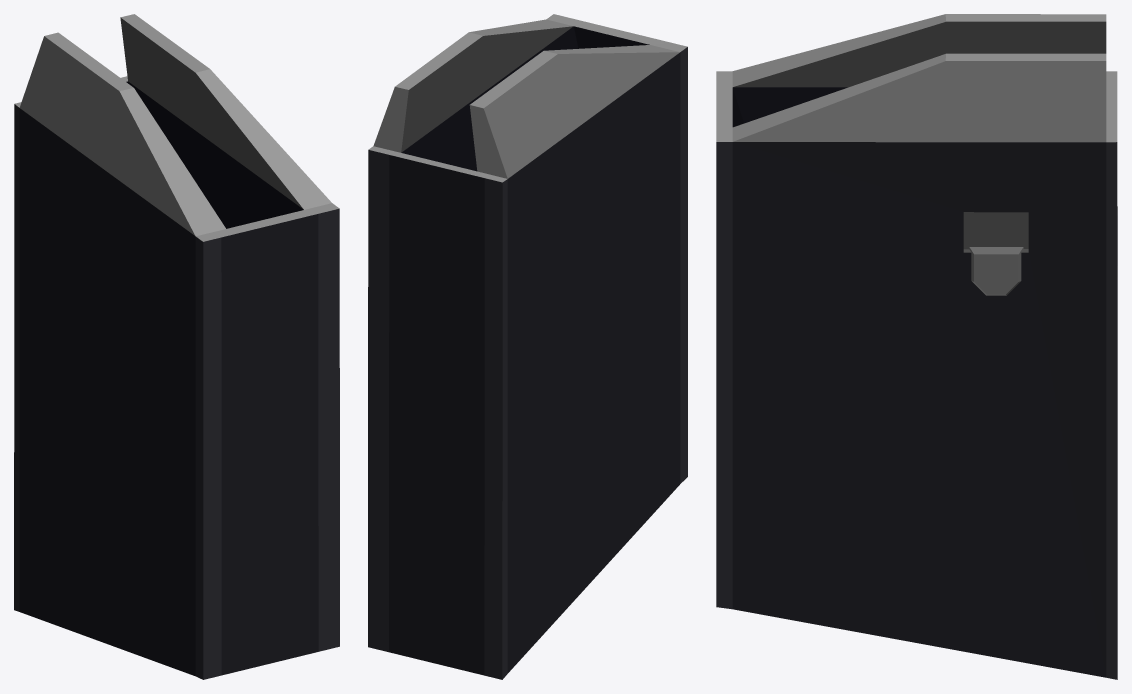
Rendered from MW1_Magazine_5.56mm_02.fbx.
3 views of the same model, side by side, from view 1: azimuth 30°, elevation 25°; view 2: azimuth 150°, elevation 25°; view 3: azimuth 270°, elevation 25° (orthographic). The views are drawn at different scales.
Visible parts, largest first — view 1: Magazine_5.56mm_02; view 2: Magazine_5.56mm_02; view 3: Magazine_5.56mm_02.
Boxes of the visible parts, x1=… form: Magazine_5.56mm_02: x1=14, y1=14, x2=339, y2=679; Magazine_5.56mm_02: x1=368, y1=14, x2=687, y2=679; Magazine_5.56mm_02: x1=716, y1=14, x2=1117, y2=679.
Bounding box in the file's own units: 2.88 × 10.91 × 6.53.
